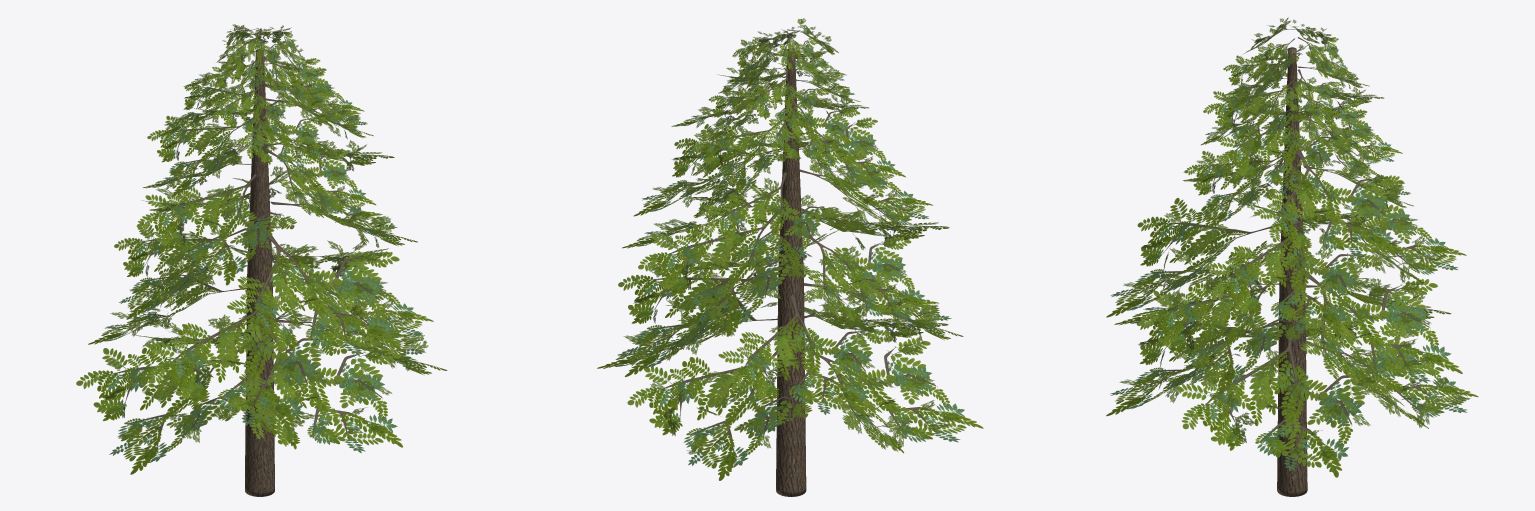
The picture shows the model from 3 angles, left to right: view 1: azimuth 30°, elevation 25°; view 2: azimuth 150°, elevation 25°; view 3: azimuth 270°, elevation 25°; orthographic projection.
Visible parts, largest first — view 1: tree; view 2: tree; view 3: tree.
Boxes of the visible parts, box(x1,y1,x2,y2) form: tree: box(76, 24, 447, 496); tree: box(597, 18, 983, 496); tree: box(1106, 17, 1478, 496).
Bounding box in the file's own units: 1326 × 1492 × 1338.
2 materials, 2 textured.
